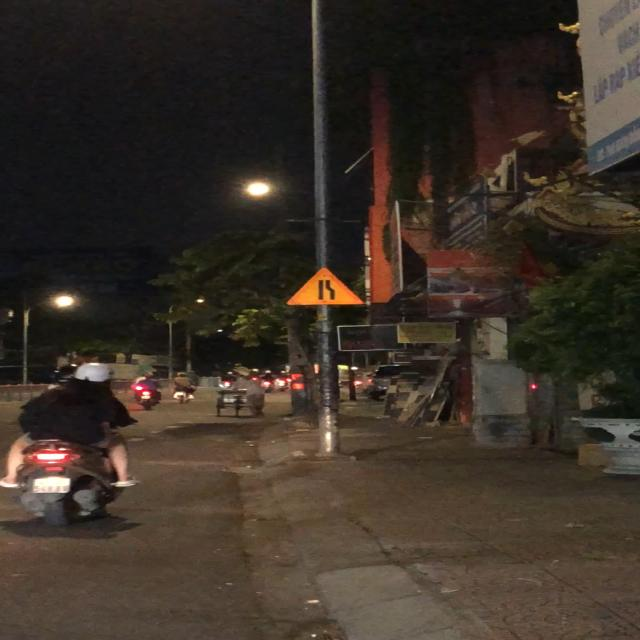Bien bao duong bi thu hep: (282, 265, 364, 307)
